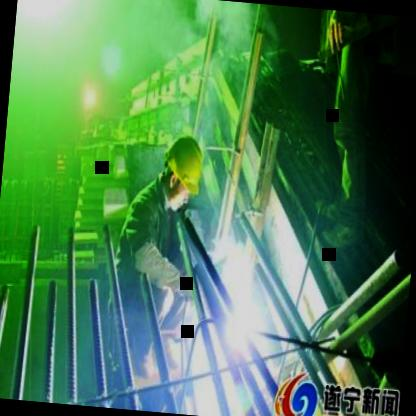helmet: (157, 122, 213, 208)
